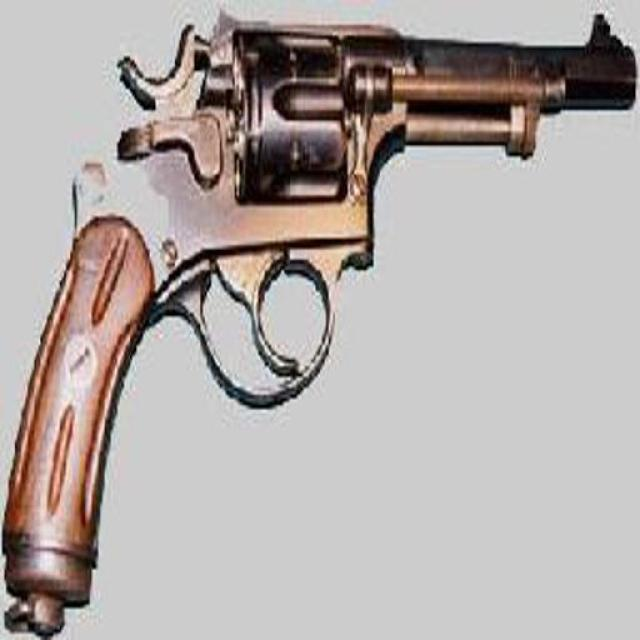pistol: (1, 10, 631, 625)
